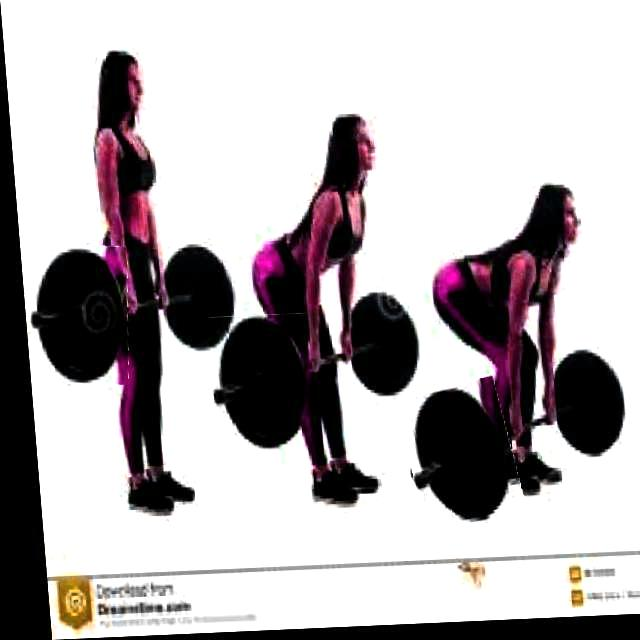barbell: (392, 384, 515, 542), (20, 243, 130, 387), (205, 316, 310, 457)
